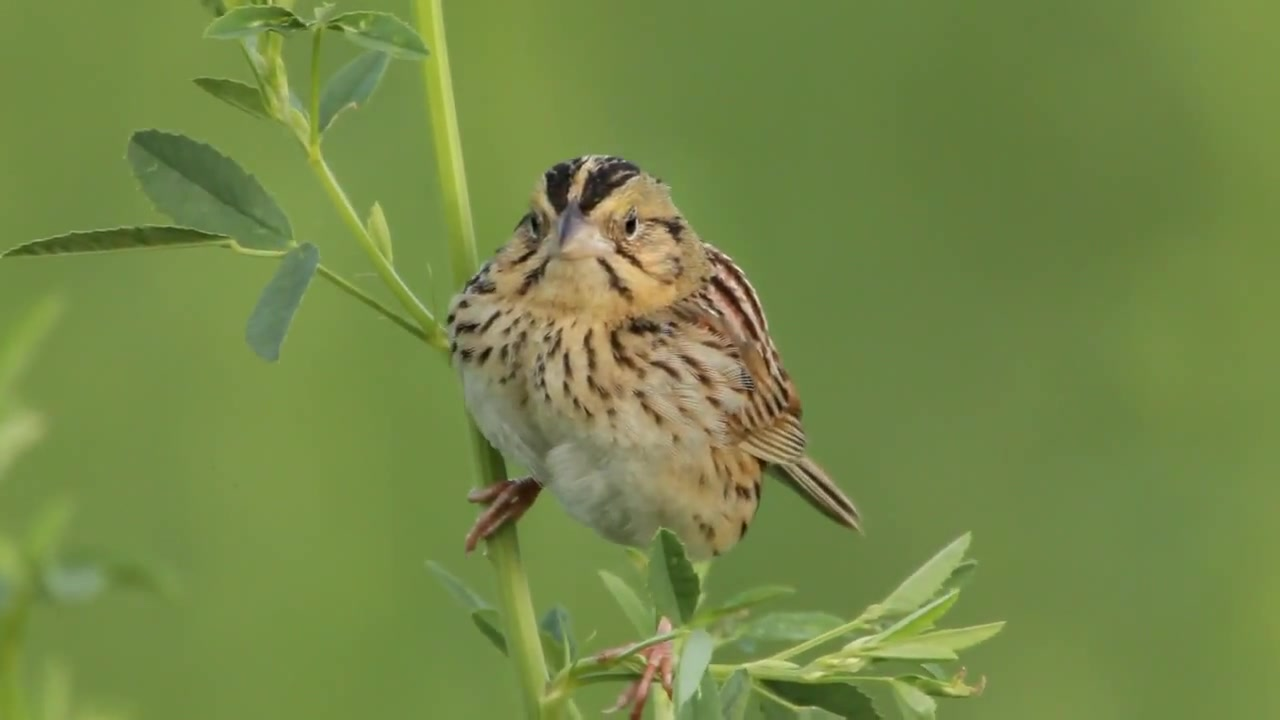bird: (447, 156, 868, 719)
